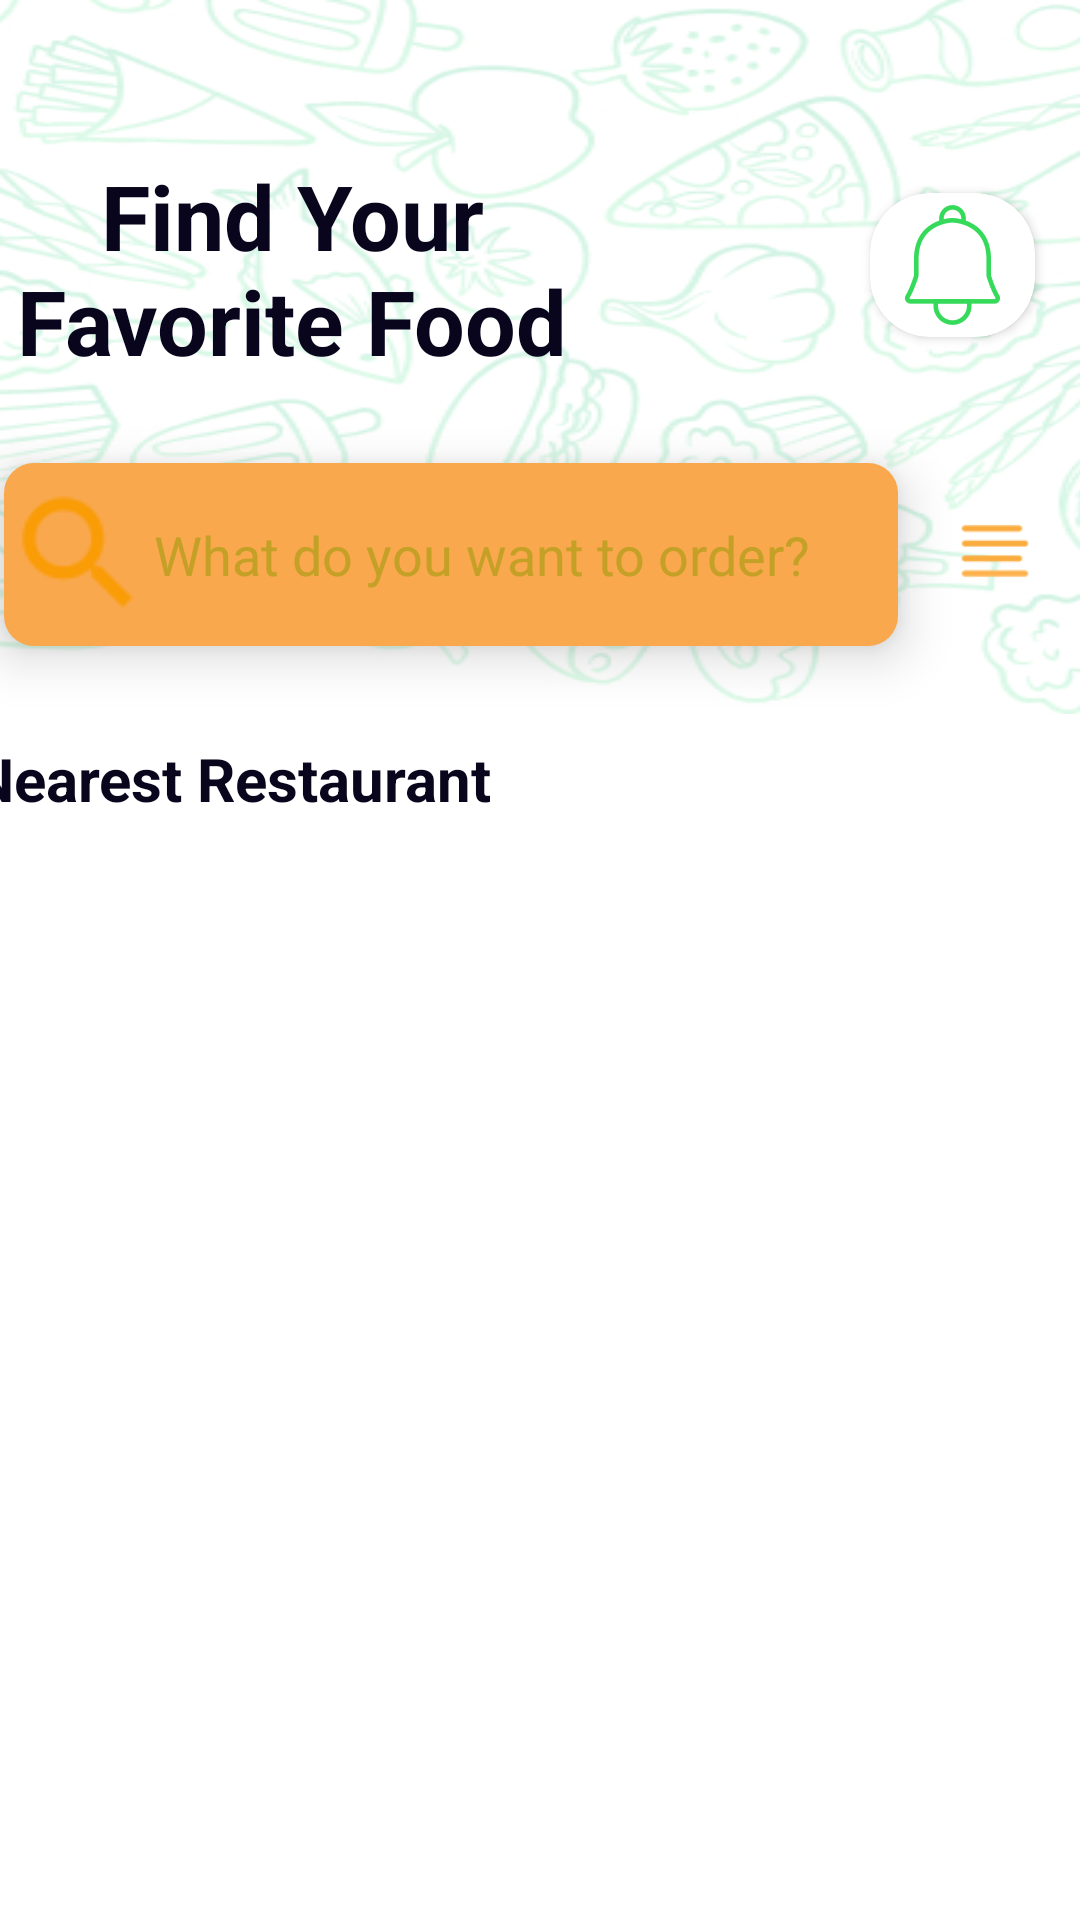

Icons on this 1080 × 1920 Android screen, each with its box as (x1, y1, x2, y2):
notification: (905, 205, 1027, 337)
option: (935, 525, 1029, 587)
